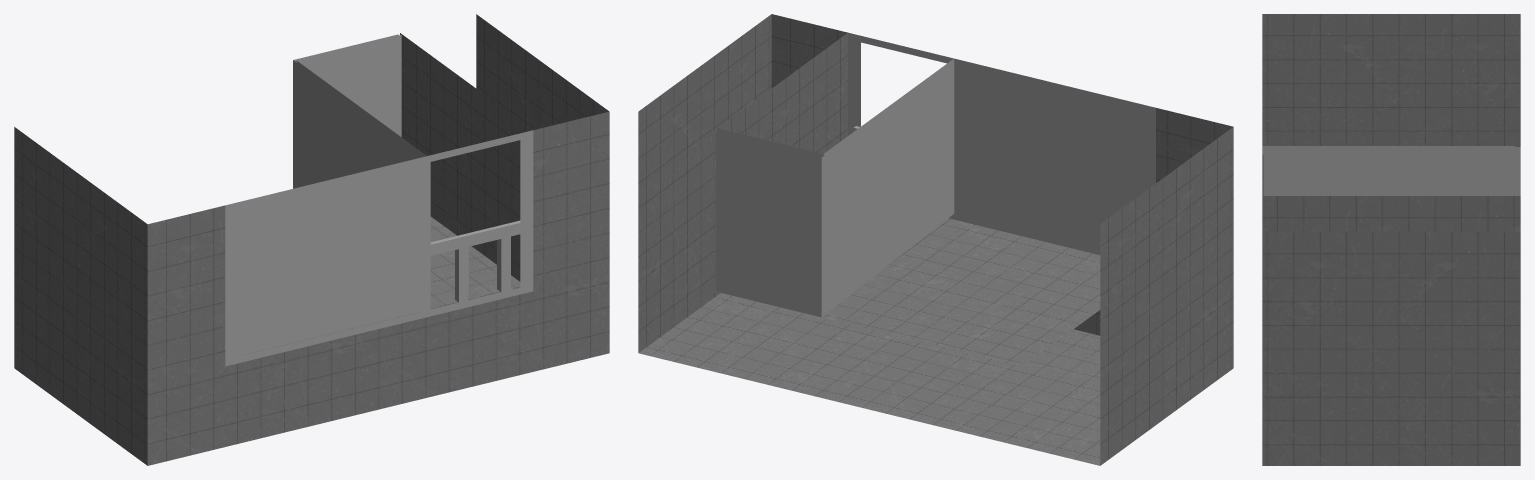
File: Ref8.fbx
3 views of the same model, side by side, from view 1: azimuth 30°, elevation 25°; view 2: azimuth 150°, elevation 25°; view 3: azimuth 270°, elevation 25° (orthographic). The views are drawn at different scales.
Parts seen in each view (by area): view 1: Cladder, Glass, Steal2, Steal, Steal3, Steal1, Steal5; view 2: Cladder, Glass, Steal2; view 3: Cladder, Glass, Steal4.
Boxes of the visible parts, bbox=[...] form: Cladder: bbox=[14, 14, 609, 465]; Glass: bbox=[238, 34, 424, 355]; Steal2: bbox=[225, 130, 533, 366]; Steal: bbox=[430, 220, 520, 302]; Steal3: bbox=[421, 162, 430, 311]; Steal1: bbox=[295, 35, 401, 136]; Steal5: bbox=[430, 223, 520, 255]; Cladder: bbox=[638, 14, 1233, 465]; Glass: bbox=[716, 60, 1144, 317]; Steal2: bbox=[848, 32, 1155, 254]; Cladder: bbox=[1262, 14, 1520, 465]; Glass: bbox=[1263, 147, 1520, 195]; Steal4: bbox=[1262, 146, 1515, 155].
Size of the model in its own units: 6 by 3 by 3.
